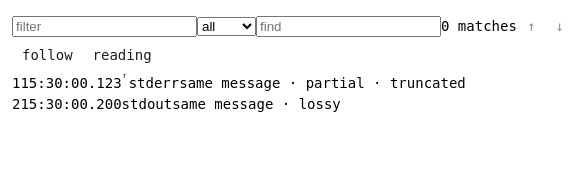
Test: uses declared log type and exact sequence identity, preserves received time and decoder flags
Select "stderr" in the dropdown named "Log stream" at (226, 26), box top-left (197, 17), bottom-right (256, 36)
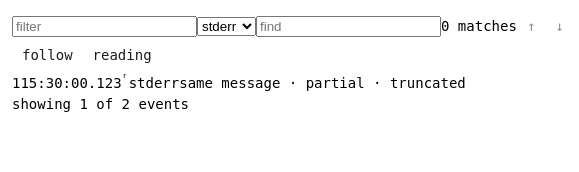
Expected: the text "showing 1 of 2 events" is shown, top-left (12, 96), bottom-right (189, 112)
